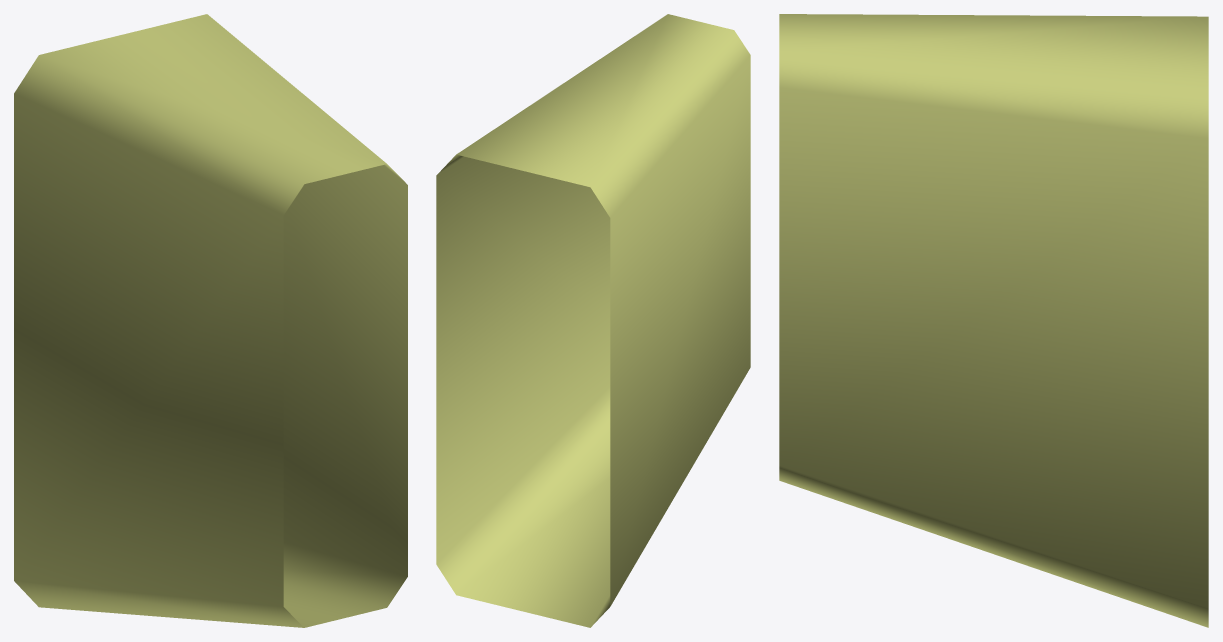
File: LightMesh_Window1.fbx
3 renders of one model, left to right at view 1: azimuth 30°, elevation 25°; view 2: azimuth 150°, elevation 25°; view 3: azimuth 270°, elevation 25°, orthographic. The views are drawn at different scales.
Visible parts, largest first — view 1: LightMesh_Window1; view 2: LightMesh_Window1; view 3: LightMesh_Window1.
Part boxes in pixels (<box>): LightMesh_Window1: <box>14,14,407,627</box>; LightMesh_Window1: <box>436,14,750,627</box>; LightMesh_Window1: <box>779,14,1208,627</box>.
Bounding box in the file's own units: 131 × 331 × 233.
